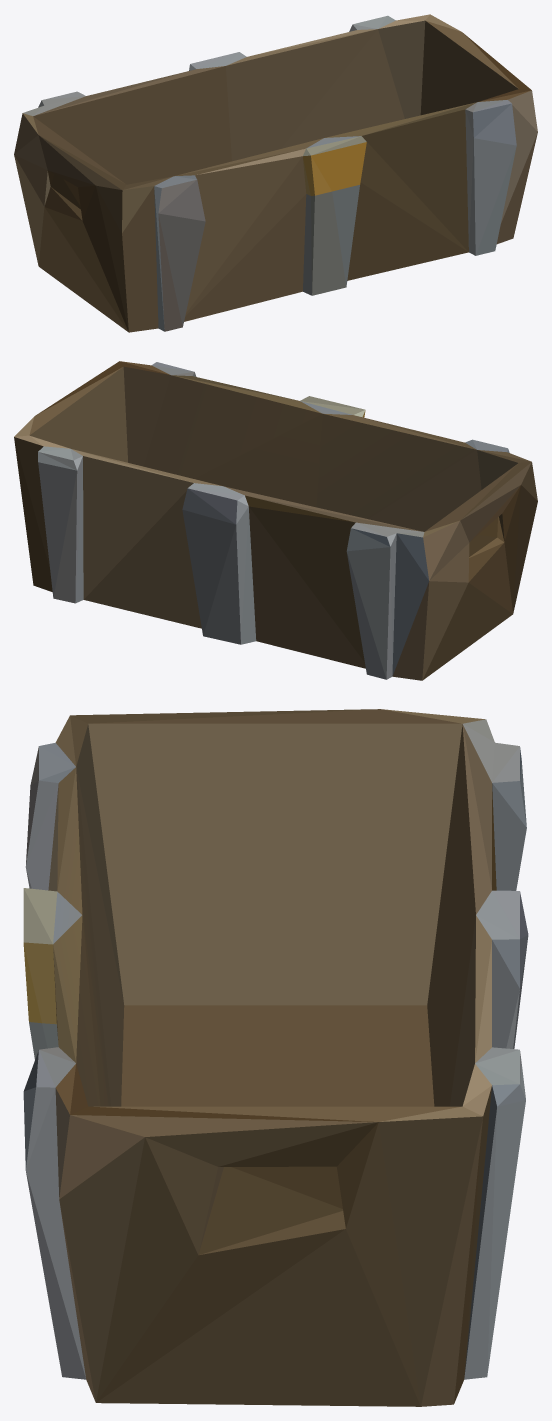
Rendered from Chest-A_Bottom.fbx.
3 views of the same model, one above another, from view 1: azimuth 30°, elevation 25°; view 2: azimuth 150°, elevation 25°; view 3: azimuth 270°, elevation 25° (orthographic). The views are drawn at different scales.
Parts seen in each view (by area): view 1: Chest-A_Bottom; view 2: Chest-A_Bottom; view 3: Chest-A_Bottom.
Boxes of the visible parts, bbox=[...] form: Chest-A_Bottom: bbox=[14, 14, 537, 332]; Chest-A_Bottom: bbox=[14, 361, 537, 680]; Chest-A_Bottom: bbox=[23, 709, 528, 1406].
Bounding box in the file's own units: 135 × 45.47 × 69.37.
